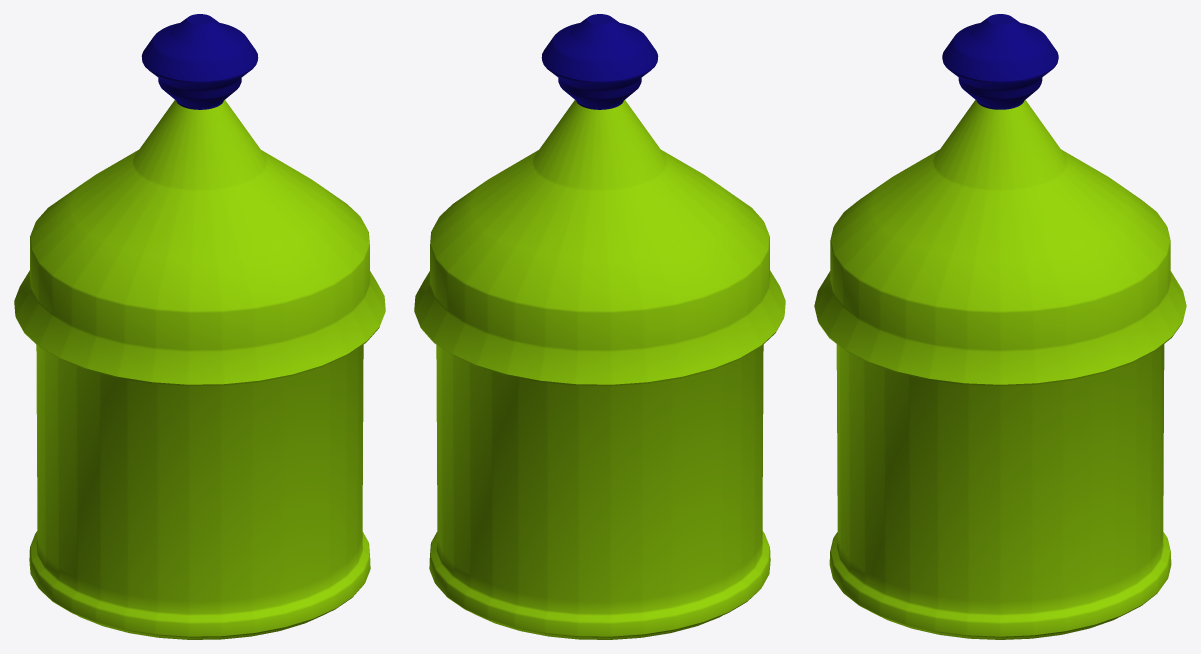
Rendered from bottle10.glb.
3 renders of one model, left to right at view 1: azimuth 30°, elevation 25°; view 2: azimuth 150°, elevation 25°; view 3: azimuth 270°, elevation 25°, orthographic.
Parts seen in each view (by area): view 1: Bottle10; view 2: Bottle10; view 3: Bottle10.
Part boxes in pixels (<box>): Bottle10: <box>14,14,385,639</box>; Bottle10: <box>414,14,785,639</box>; Bottle10: <box>814,14,1186,639</box>.
Size of the model in its own units: 0.5554 by 0.9157 by 0.5554.
